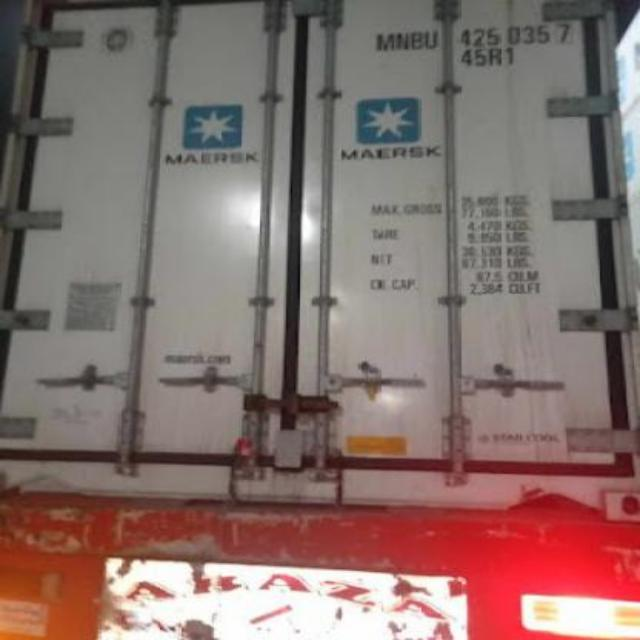0: (506, 24, 522, 46)
2: (472, 28, 486, 48)
3: (522, 22, 536, 46)
4: (456, 28, 472, 48)
5: (486, 27, 502, 47), (536, 23, 552, 43)
7: (556, 21, 574, 44)
B: (411, 31, 424, 54)
M: (374, 32, 396, 52)
N: (396, 31, 409, 54)
U: (424, 28, 440, 52)
